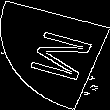M_E: (15, 24, 95, 86)
